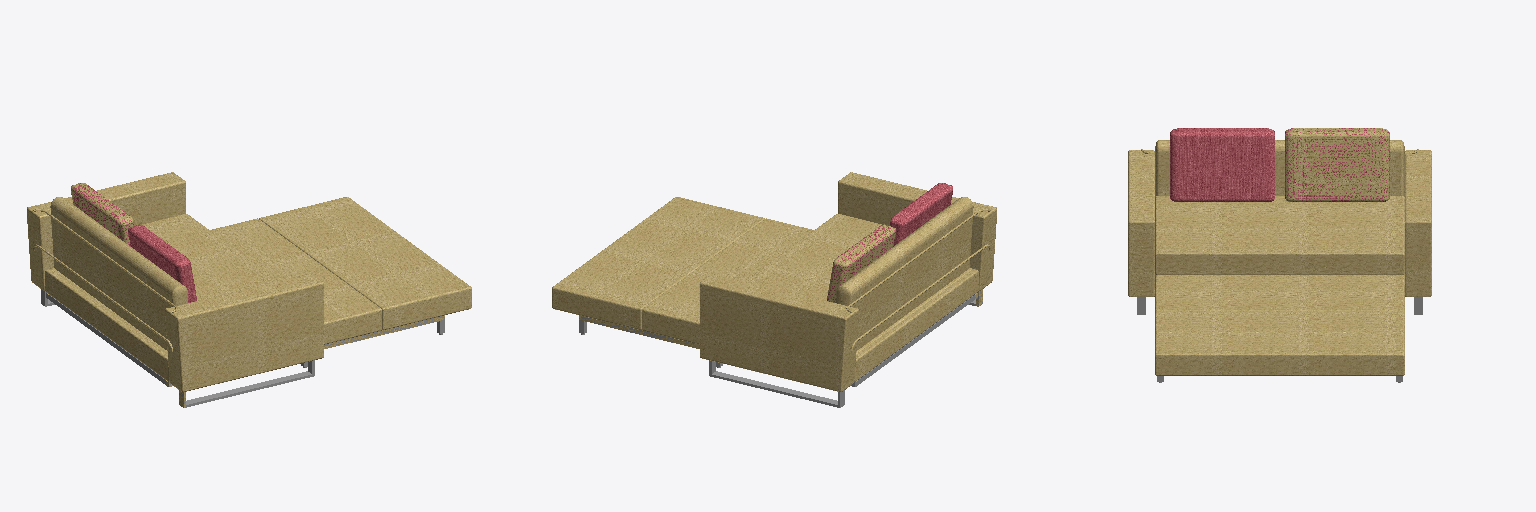
The picture shows the model from 3 angles: view 1: azimuth 30°, elevation 25°; view 2: azimuth 150°, elevation 25°; view 3: azimuth 270°, elevation 25°; orthographic projection.
Visible parts, largest first — view 1: mesh1.001_mesh1-geometry, mesh2.001_mesh2-geometry, mesh10.001_mesh10-geometry, mesh9.001_mesh9-geometry, mesh14.001_mesh14-geometry; view 2: mesh1.001_mesh1-geometry, mesh2.001_mesh2-geometry, mesh9.001_mesh9-geometry, mesh10.001_mesh10-geometry, mesh15.001_mesh15-geometry; view 3: mesh1.001_mesh1-geometry, mesh10.001_mesh10-geometry, mesh9.001_mesh9-geometry, mesh2.001_mesh2-geometry.
Boxes of the visible parts, x1=… form: mesh1.001_mesh1-geometry: x1=27, y1=172, x2=471, y2=391; mesh2.001_mesh2-geometry: x1=50, y1=197, x2=187, y2=349; mesh10.001_mesh10-geometry: x1=128, y1=224, x2=196, y2=302; mesh9.001_mesh9-geometry: x1=71, y1=183, x2=133, y2=246; mesh14.001_mesh14-geometry: x1=179, y1=360, x2=314, y2=407; mesh1.001_mesh1-geometry: x1=552, y1=172, x2=996, y2=391; mesh2.001_mesh2-geometry: x1=836, y1=197, x2=973, y2=349; mesh9.001_mesh9-geometry: x1=827, y1=224, x2=895, y2=302; mesh10.001_mesh10-geometry: x1=890, y1=183, x2=952, y2=246; mesh15.001_mesh15-geometry: x1=709, y1=360, x2=844, y2=407; mesh1.001_mesh1-geometry: x1=1128, y1=150, x2=1431, y2=381; mesh10.001_mesh10-geometry: x1=1170, y1=128, x2=1274, y2=201; mesh9.001_mesh9-geometry: x1=1285, y1=128, x2=1389, y2=201; mesh2.001_mesh2-geometry: x1=1155, y1=140, x2=1404, y2=196.
Size of the model in its own units: 0.7276 by 0.2926 by 0.6205.
Materials: 3 (2 with a texture image).